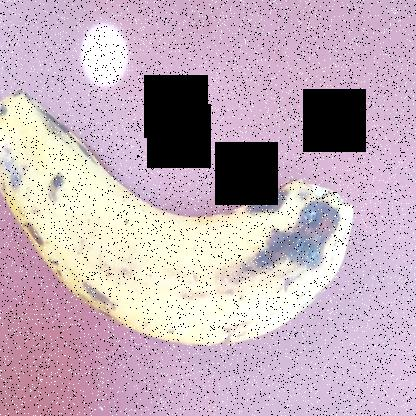ripe: (0, 73, 366, 358)
